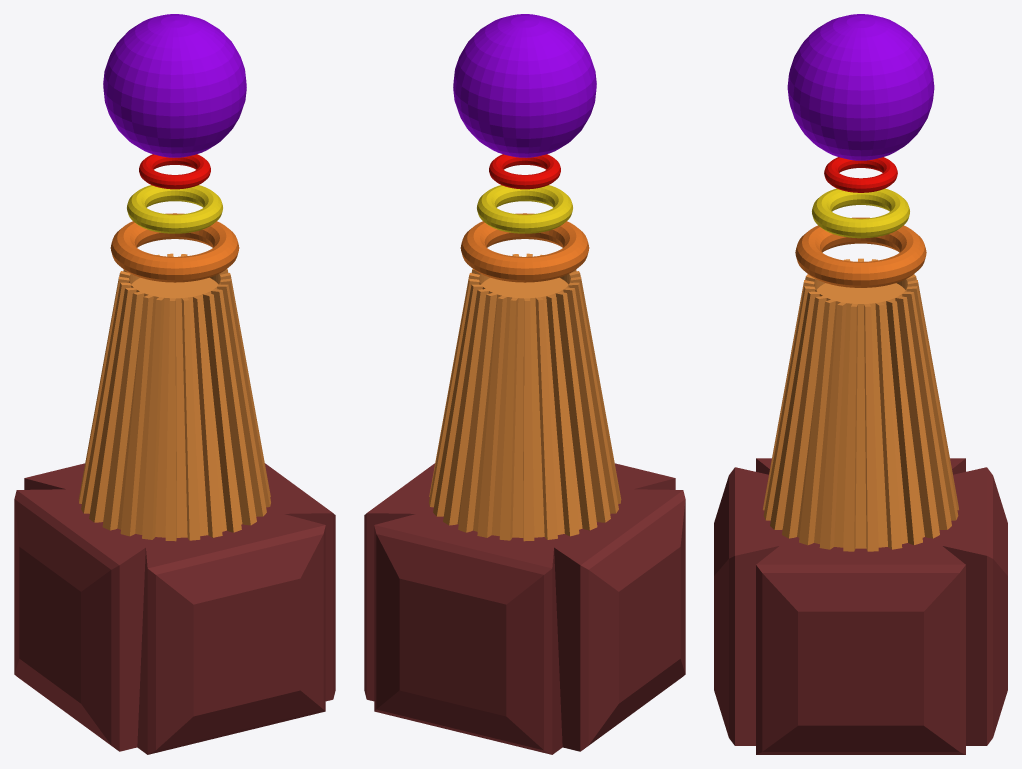
File: hydrogenShooter.fbx
The picture shows the model from 3 angles, left to right: view 1: azimuth 30°, elevation 25°; view 2: azimuth 150°, elevation 25°; view 3: azimuth 270°, elevation 25°; orthographic projection. The views are drawn at different scales.
Visible parts, largest first — view 1: Cube, Cylinder, Sphere, Torus, Torus.001, Torus.002; view 2: Cube, Cylinder, Sphere, Torus, Torus.001, Torus.002; view 3: Cube, Cylinder, Sphere, Torus, Torus.001, Torus.002.
Part boxes in pixels (x1=…): Cube: x1=14, y1=463, x2=335, y2=754; Cylinder: x1=78, y1=253, x2=270, y2=541; Sphere: x1=103, y1=14, x2=246, y2=157; Torus: x1=110, y1=213, x2=239, y2=282; Torus.001: x1=127, y1=185, x2=222, y2=233; Torus.002: x1=139, y1=154, x2=210, y2=189; Cube: x1=364, y1=463, x2=685, y2=754; Cylinder: x1=429, y1=253, x2=621, y2=541; Sphere: x1=453, y1=14, x2=596, y2=157; Torus: x1=460, y1=213, x2=589, y2=282; Torus.001: x1=477, y1=185, x2=572, y2=233; Torus.002: x1=489, y1=154, x2=560, y2=189; Cube: x1=714, y1=458, x2=1007, y2=754; Cylinder: x1=763, y1=258, x2=958, y2=551; Sphere: x1=787, y1=14, x2=934, y2=160; Torus: x1=795, y1=217, x2=926, y2=287; Torus.001: x1=812, y1=188, x2=909, y2=238; Torus.002: x1=824, y1=157, x2=897, y2=192.
Bounding box in the file's own units: 280 × 716 × 280.
